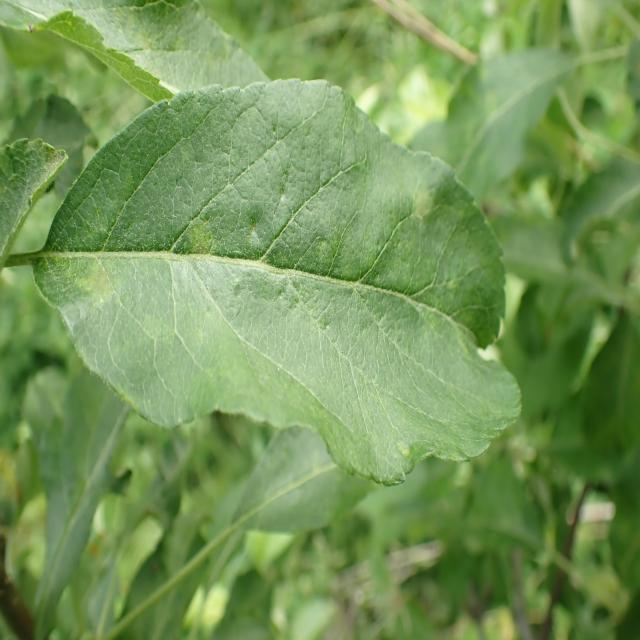scab: (56, 100, 477, 450)
